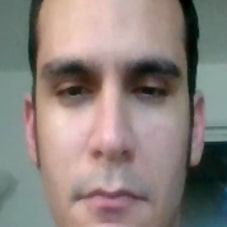drowsy: (40, 51, 184, 213)
